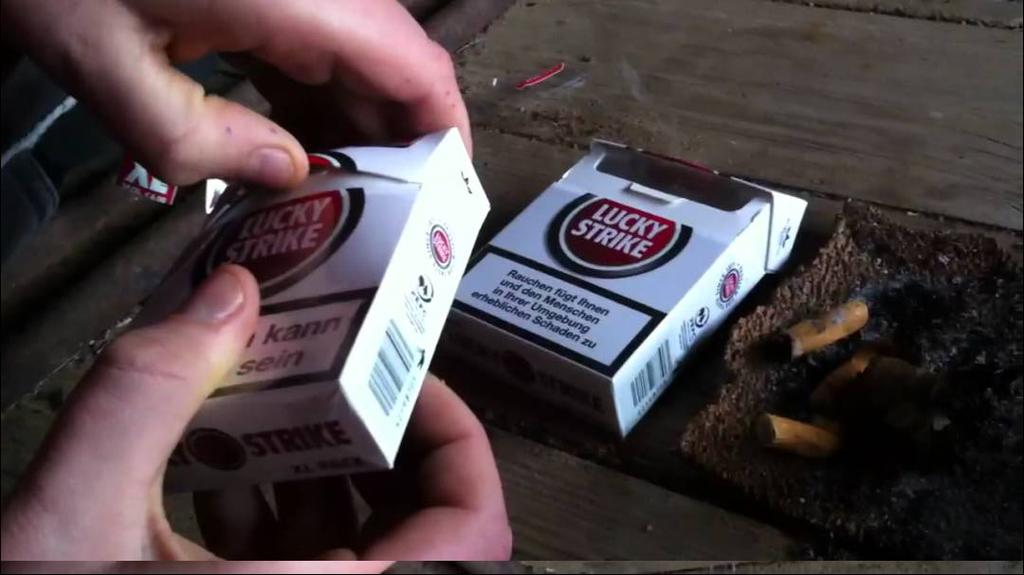lucky_strike_red: (198, 145, 396, 390), (531, 162, 698, 357)
